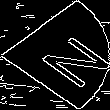N_NW: (10, 23, 100, 87)
